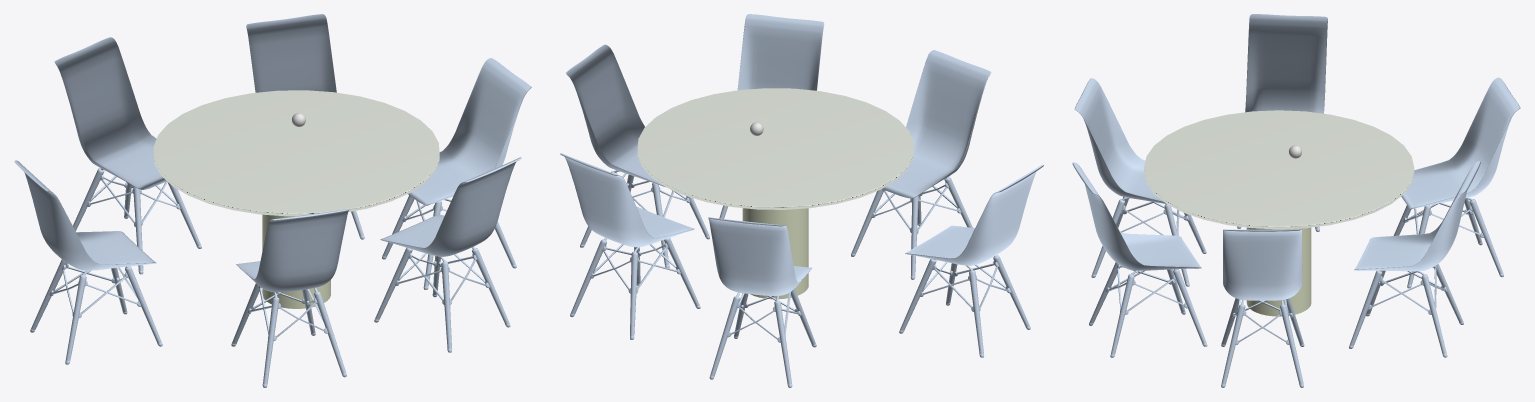
File: table.glb
The picture shows the model from 3 angles, left to right: view 1: azimuth 30°, elevation 25°; view 2: azimuth 150°, elevation 25°; view 3: azimuth 270°, elevation 25°; orthographic projection. The views are drawn at different scales.
Visible parts, largest first — view 1: 柱体, DUDUKAN_003, DUDUKAN_003.001, DUDUKAN_01, DUDUKAN_004, DUDUKAN_002, DUDUKAN_003.002, Minimalizerchair_Dudukan_006, Minimalizerchair_Dudukan_008.002, Minimalizerchair_Dudukan_005, Minimalizerchair_Dudukan_008, Minimalizerchair_Dudukan_008.001 (+1 smaller); view 2: 柱体, DUDUKAN_01, DUDUKAN_003.001, DUDUKAN_002, DUDUKAN_003, DUDUKAN_004, DUDUKAN_003.002, Minimalizerchair_Dudukan_008.002, Minimalizerchair_Dudukan_007, Minimalizerchair_Dudukan_008, 柱体.001, Minimalizerchair_Dudukan_005 (+1 smaller); view 3: 柱体, DUDUKAN_003.002, DUDUKAN_003, DUDUKAN_003.001, DUDUKAN_01, DUDUKAN_004, DUDUKAN_002, Minimalizerchair_Dudukan_006, Minimalizerchair_Dudukan_007, Minimalizerchair_Dudukan_008.001, 柱体.001, Minimalizerchair_Dudukan_008 (+1 smaller).
Part boxes in pixels (<box>): 柱体: <box>153,90,439,216</box>; DUDUKAN_003: <box>54,37,166,189</box>; DUDUKAN_003.001: <box>408,58,531,205</box>; DUDUKAN_01: <box>236,209,349,292</box>; DUDUKAN_004: <box>246,14,336,92</box>; DUDUKAN_002: <box>380,157,521,256</box>; DUDUKAN_003.002: <box>14,160,156,270</box>; Minimalizerchair_Dudukan_006: <box>374,246,510,352</box>; Minimalizerchair_Dudukan_008.002: <box>30,259,162,364</box>; Minimalizerchair_Dudukan_005: <box>231,283,346,387</box>; Minimalizerchair_Dudukan_008: <box>73,168,201,274</box>; Minimalizerchair_Dudukan_008.001: <box>382,195,516,289</box>; 柱体: <box>637,88,913,209</box>; DUDUKAN_01: <box>882,50,991,198</box>; DUDUKAN_003.001: <box>566,44,665,187</box>; DUDUKAN_002: <box>737,14,824,90</box>; DUDUKAN_003: <box>708,217,811,295</box>; DUDUKAN_004: <box>560,153,694,247</box>; DUDUKAN_003.002: <box>905,164,1043,265</box>; Minimalizerchair_Dudukan_008.002: <box>899,255,1030,357</box>; Minimalizerchair_Dudukan_007: <box>570,238,700,339</box>; Minimalizerchair_Dudukan_008: <box>709,288,816,387</box>; 柱体.001: <box>742,208,808,299</box>; Minimalizerchair_Dudukan_005: <box>851,176,972,279</box>; 柱体: <box>1144,110,1414,229</box>; DUDUKAN_003.002: <box>1245,14,1327,113</box>; DUDUKAN_003: <box>1401,77,1520,208</box>; DUDUKAN_003.001: <box>1223,229,1302,300</box>; DUDUKAN_01: <box>1074,78,1165,203</box>; DUDUKAN_004: <box>1354,161,1480,271</box>; DUDUKAN_002: <box>1072,162,1201,270</box>; Minimalizerchair_Dudukan_006: <box>1089,262,1207,357</box>; Minimalizerchair_Dudukan_007: <box>1349,264,1463,357</box>; Minimalizerchair_Dudukan_008.001: <box>1221,298,1304,387</box>; 柱体.001: <box>1246,227,1311,316</box>; Minimalizerchair_Dudukan_008: <box>1393,197,1503,288</box>.
Size of what is drawn, in the model's own units: 154 by 55.82 by 135.
